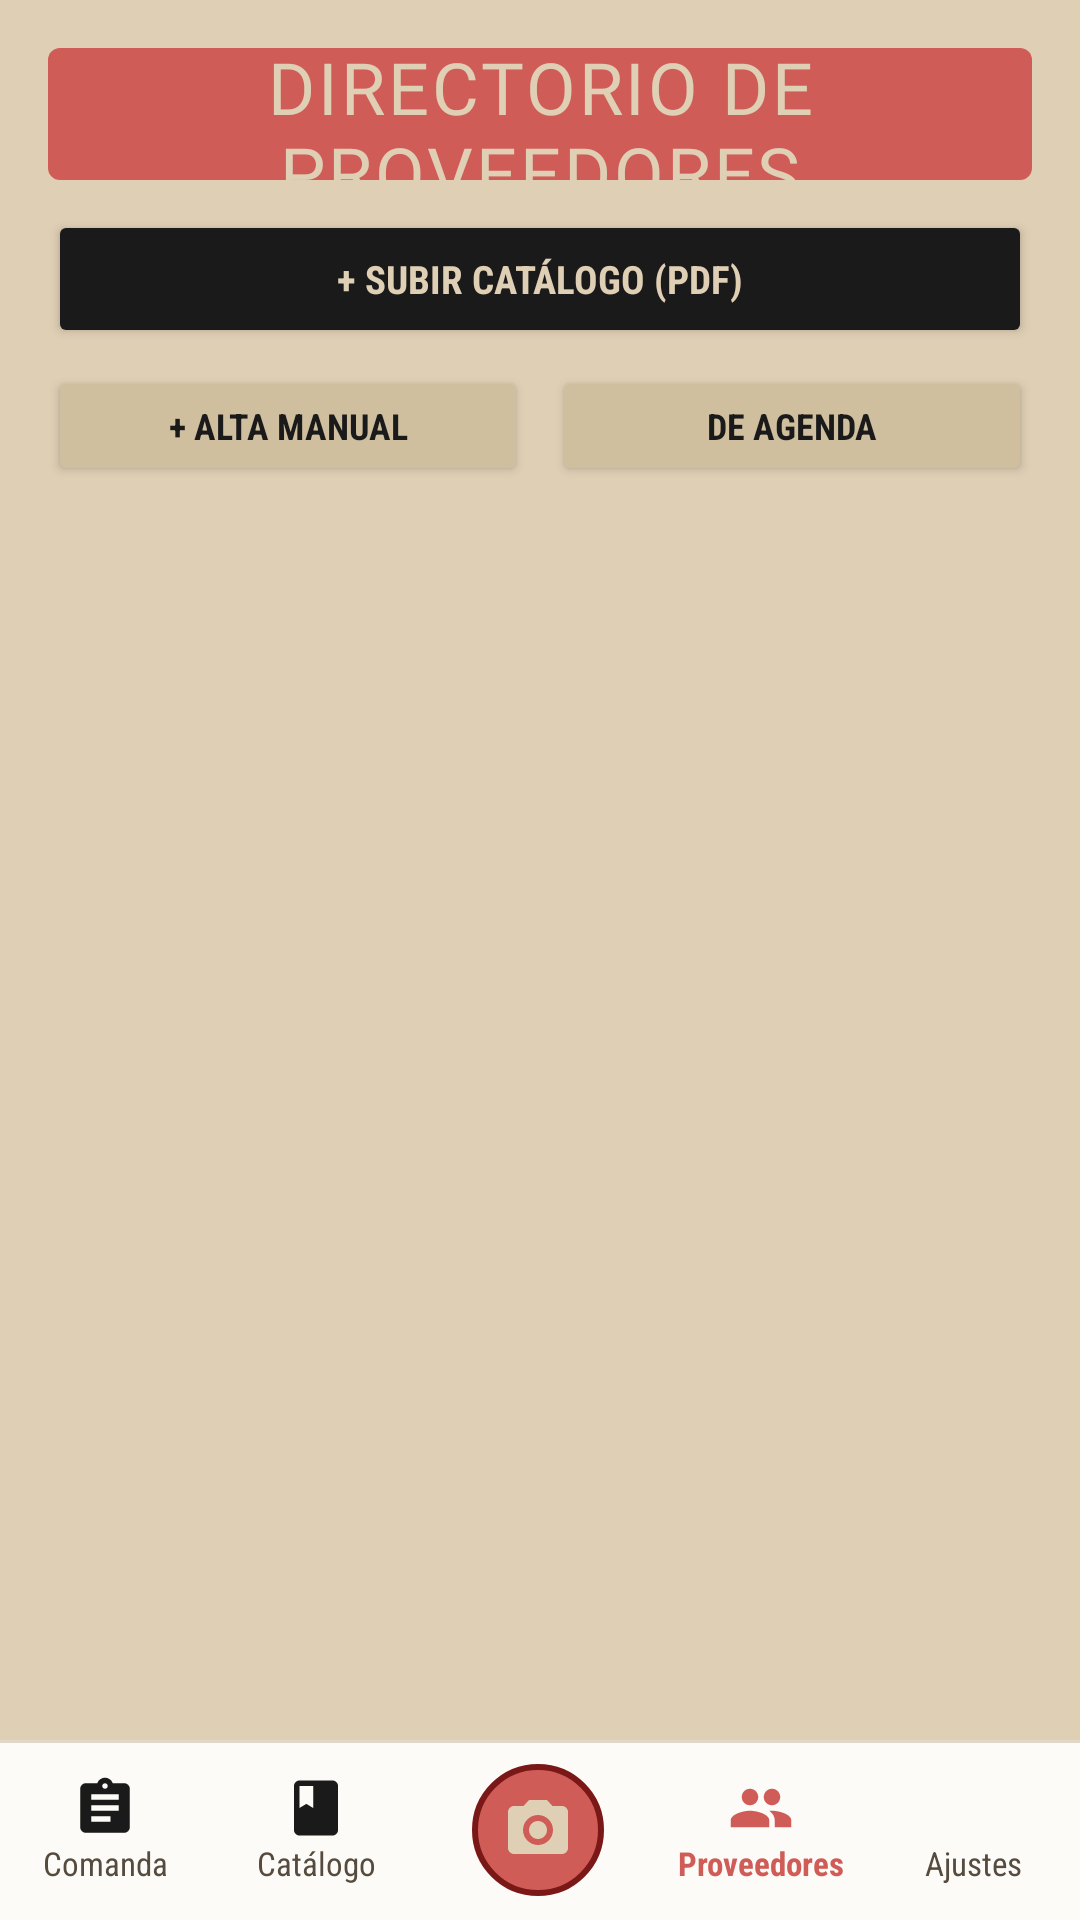

Icon click points for this 1080w x 1920h phone screenshot, format (x=x, y=y):
camera: (x=538, y=1827)
